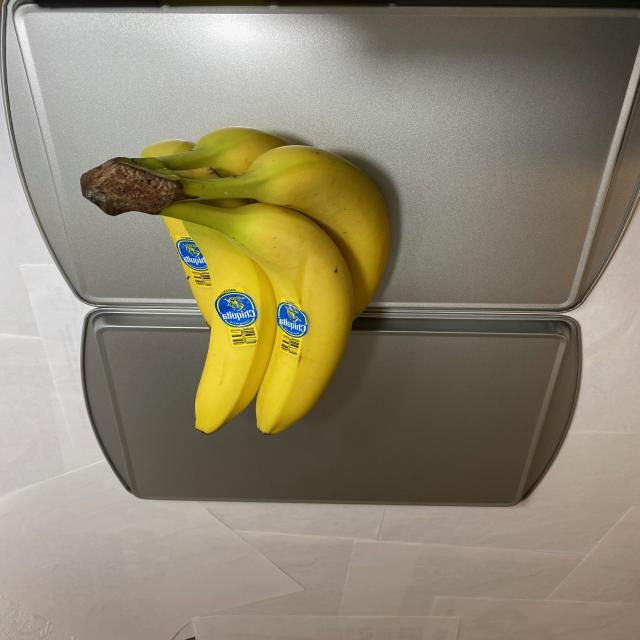banana: (70, 124, 406, 438)
